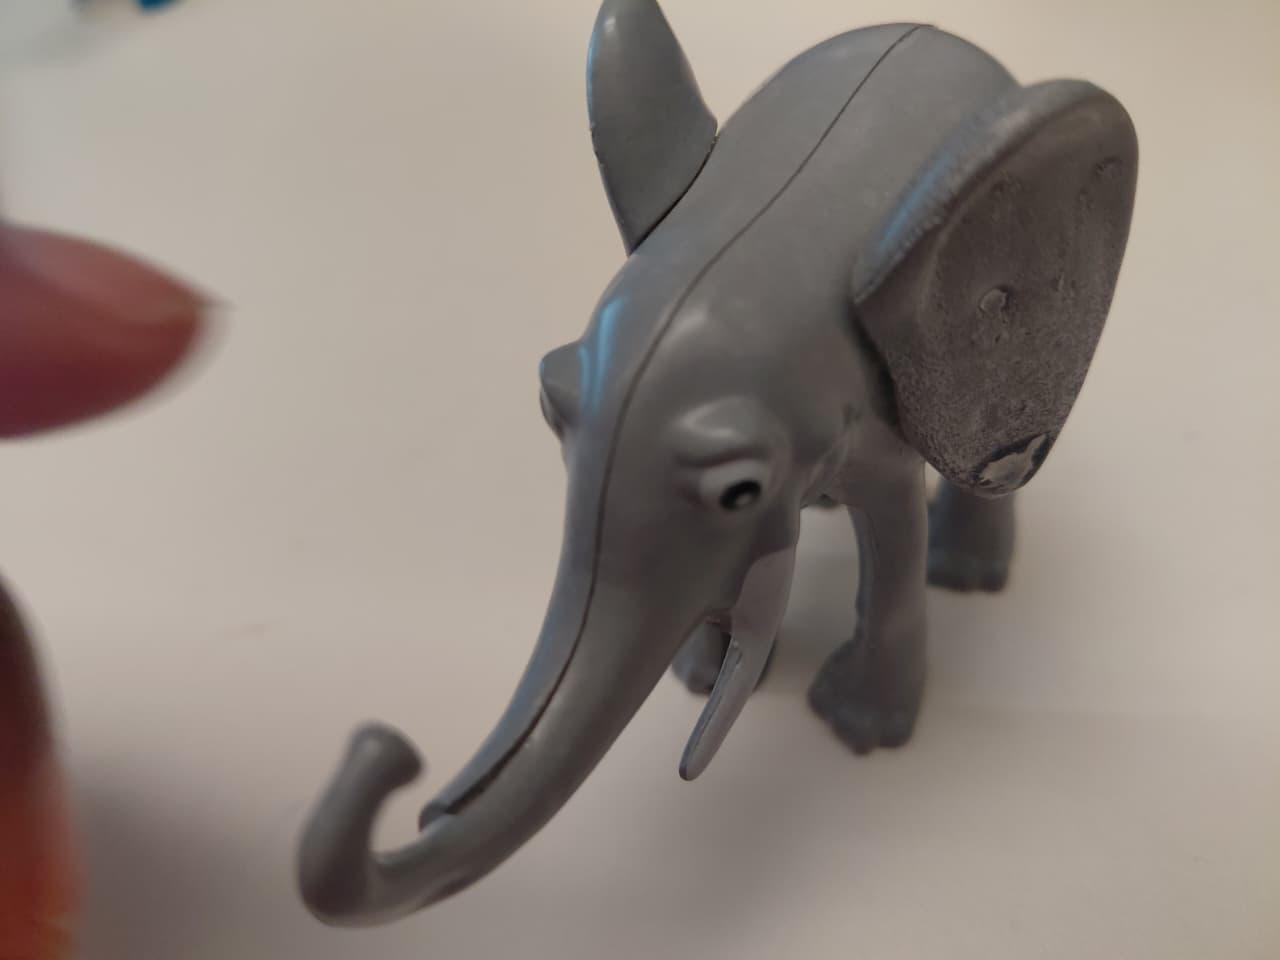elephant: (240, 18, 1169, 935)
